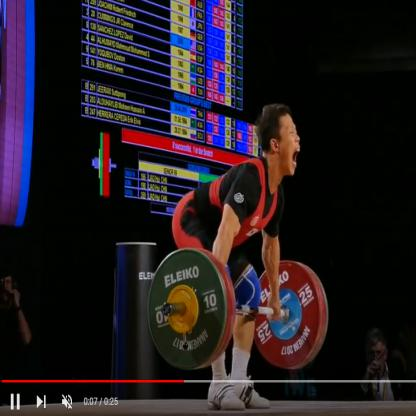Barbell: (146, 241, 237, 374)
